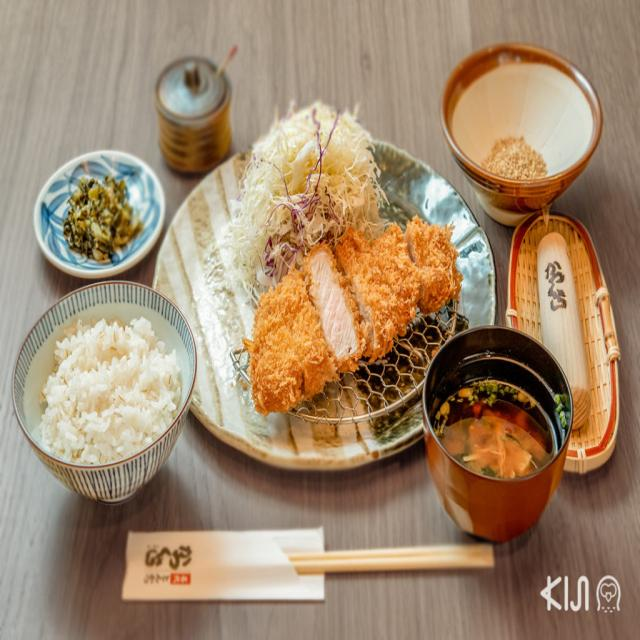carb: (41, 318, 182, 464)
meat: (245, 218, 462, 415)
vegetable: (227, 102, 386, 302), (64, 175, 144, 263)
